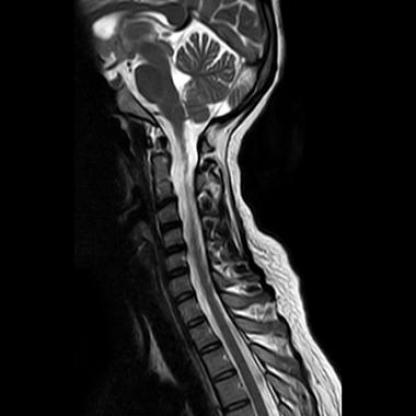Disc Bulgerotation: (172, 291, 198, 304), (165, 266, 190, 279), (162, 244, 187, 257)
